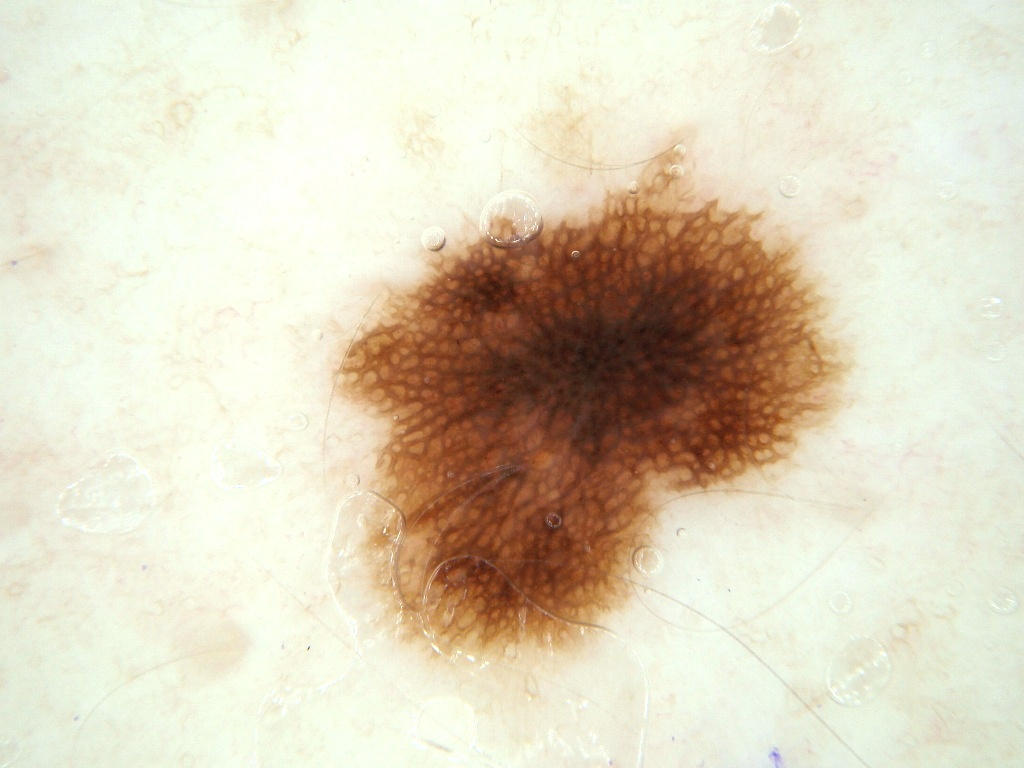Detected Lesion: (333, 144, 851, 668)
